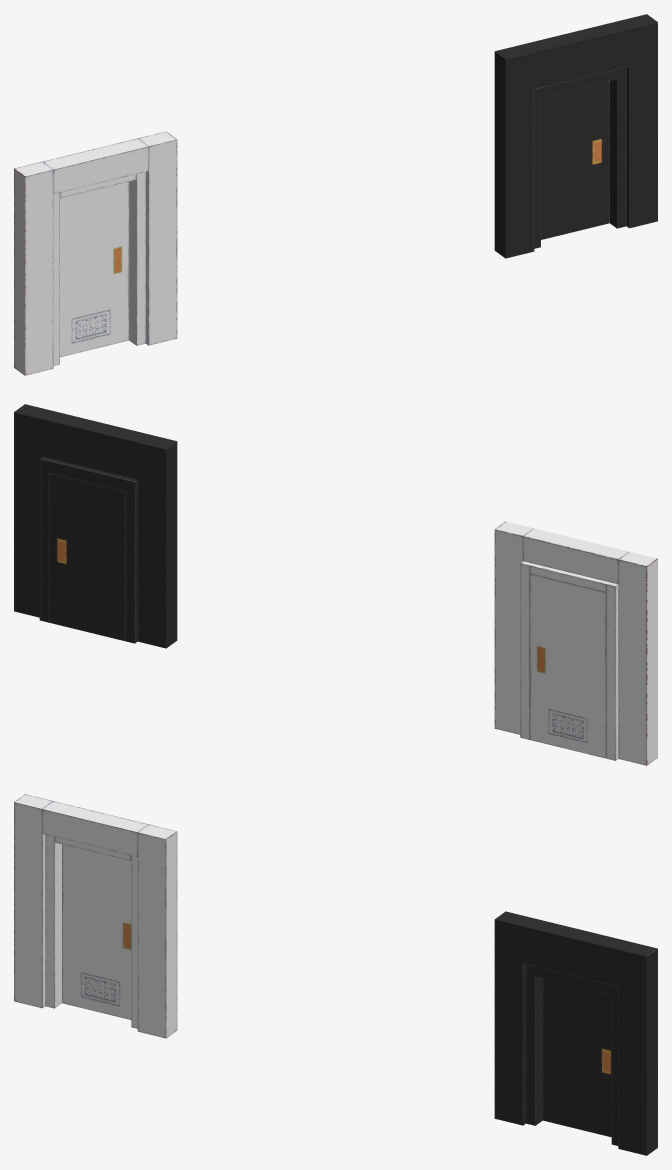
File: doors.gltf
The picture shows the model from 3 angles, top to bottom: view 1: azimuth 30°, elevation 25°; view 2: azimuth 150°, elevation 25°; view 3: azimuth 330°, elevation 25°; orthographic projection.
Visible parts, largest first — view 1: DoorOuterFrame_4, DoorOuterFrame_3, Door_3, Door_4, DoorFrame_3, DoorFrame_4; view 2: DoorOuterFrame_4, DoorOuterFrame_3, Door_3, Door_4, DoorFrame_4, DoorFrame_3; view 3: DoorOuterFrame_4, DoorOuterFrame_3, Door_3, Door_4, DoorFrame_4, DoorFrame_3.
Boxes of the visible parts, x1,y1,x2,y2 form: DoorOuterFrame_4: (494, 14, 657, 258); DoorOuterFrame_3: (14, 131, 177, 375); Door_3: (60, 181, 129, 357); Door_4: (541, 81, 609, 239); DoorFrame_3: (53, 172, 145, 365); DoorFrame_4: (534, 67, 626, 248); DoorOuterFrame_4: (14, 404, 177, 648); DoorOuterFrame_3: (494, 521, 657, 765); Door_3: (529, 574, 606, 758); Door_4: (49, 473, 125, 641); DoorFrame_4: (39, 457, 137, 643); DoorFrame_3: (520, 561, 618, 760); DoorOuterFrame_4: (494, 911, 657, 1155); DoorOuterFrame_3: (14, 794, 177, 1038); Door_3: (62, 844, 131, 1019); Door_4: (542, 978, 611, 1137); DoorFrame_4: (526, 965, 618, 1145); DoorFrame_3: (45, 834, 137, 1028).
Bounding box in the file's own units: 9.97 × 3 × 0.3763.
1 material, 1 textured.
